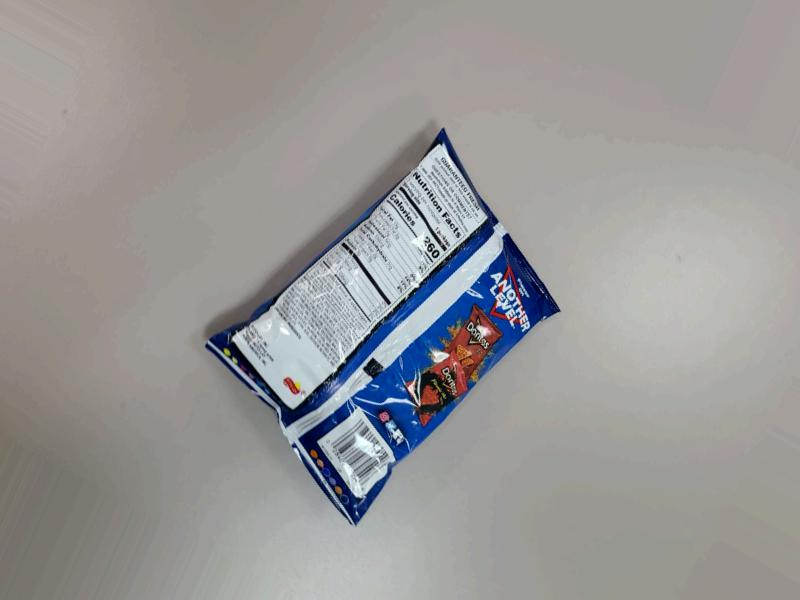doritos: (213, 82, 556, 517)
